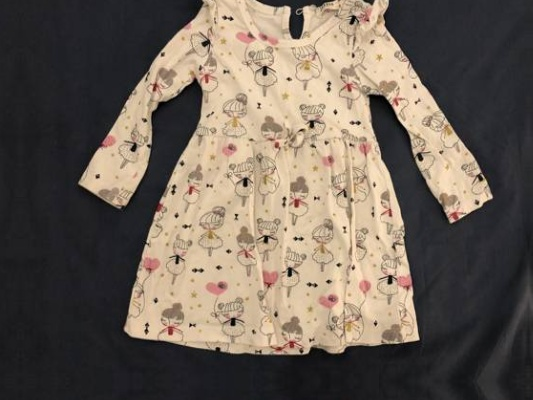Dress: (91, 0, 507, 367), (91, 396, 507, 400)
